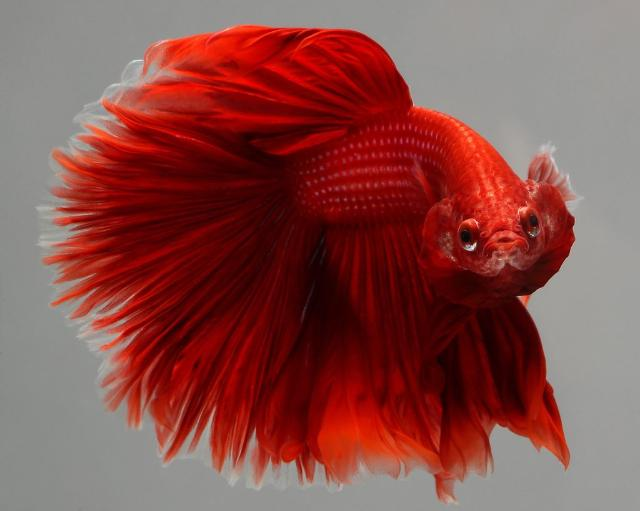Mulut: (468, 214, 536, 278)
